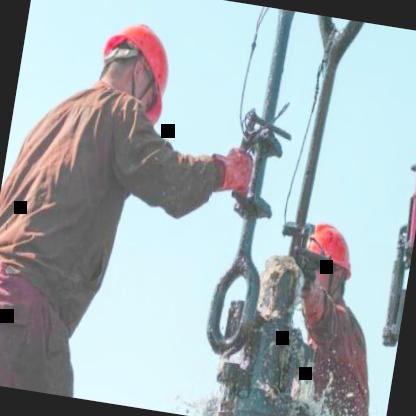helmet: (88, 7, 186, 125), (294, 210, 368, 318)
